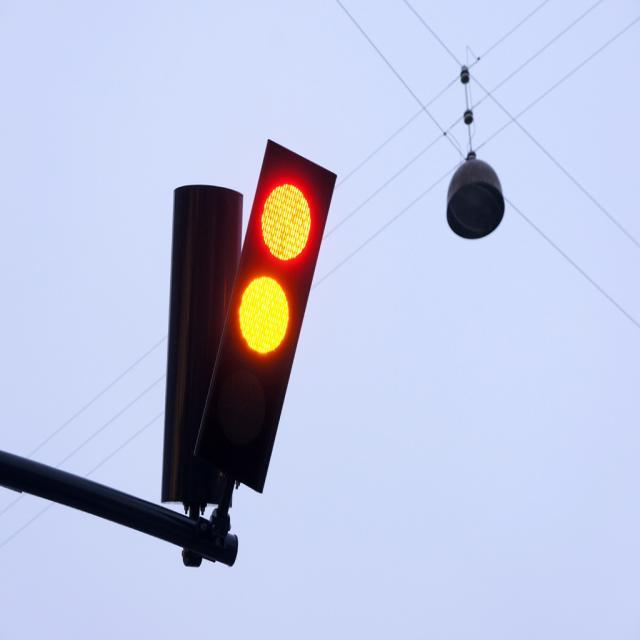traffic light: (194, 140, 339, 496)
